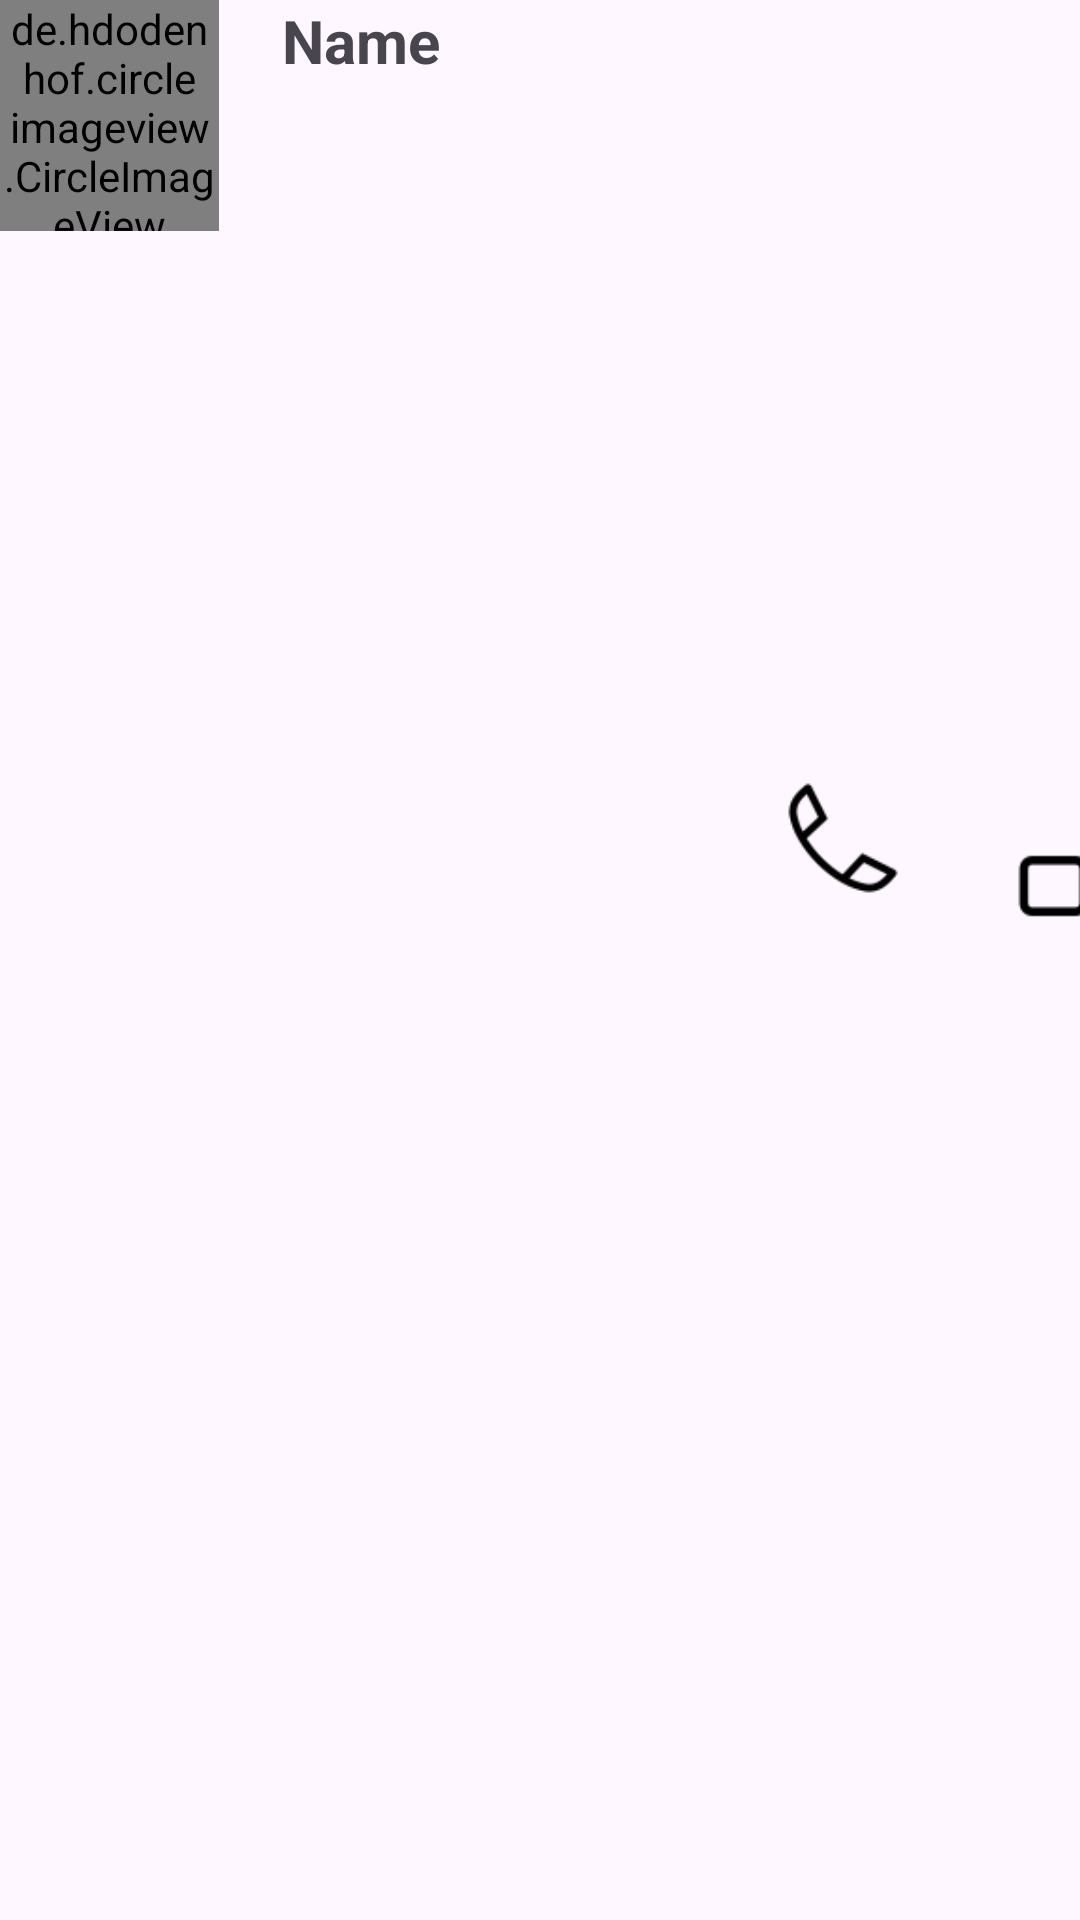

Named icons in this screenshot (1080*1920) and their bounding boxes, bbox(x1, y1, x2, y2):
call: bbox(788, 783, 898, 893)
